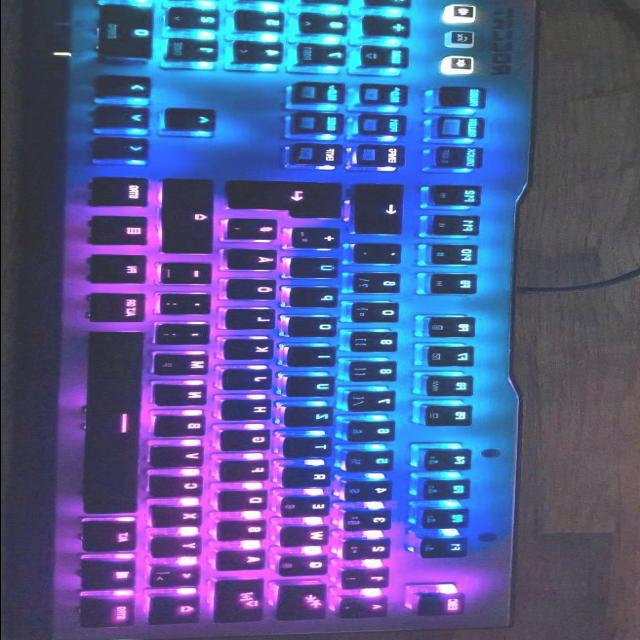0: (353, 303, 405, 325)
1: (344, 570, 396, 592)
2: (347, 542, 397, 562)
3: (347, 513, 397, 533)
4: (348, 482, 398, 504)
5: (347, 452, 399, 474)
6: (349, 422, 401, 444)
7: (347, 392, 401, 414)
8: (350, 362, 402, 384)
9: (351, 333, 403, 355)
a: (221, 552, 271, 573)
accent: (357, 245, 407, 267)
ae: (231, 251, 283, 273)
alt-left: (85, 522, 143, 554)
altgr-right: (93, 294, 151, 325)
b: (158, 416, 212, 439)
c: (153, 477, 209, 500)
caret: (345, 598, 392, 620)
comma: (161, 325, 217, 348)
d: (223, 492, 273, 514)
del: (358, 187, 407, 237)
e: (284, 499, 336, 519)
enter: (228, 182, 350, 221)
f: (225, 462, 275, 483)
g: (225, 431, 275, 453)
h: (226, 401, 276, 423)
hash: (231, 221, 283, 243)
i: (293, 348, 341, 370)
j: (227, 370, 277, 392)
k: (227, 340, 279, 362)
keyboard: (37, 0, 527, 640)
l: (230, 310, 280, 332)
less: (153, 568, 205, 590)
m: (157, 354, 215, 378)
minus: (166, 265, 218, 287)
n: (157, 384, 213, 409)
o: (292, 318, 342, 340)
oe: (229, 280, 281, 302)
p: (293, 288, 343, 310)
plus: (296, 230, 346, 250)
point: (164, 295, 218, 317)
q: (282, 557, 334, 579)
r: (287, 469, 337, 490)
s: (221, 523, 271, 543)
shift-left: (154, 597, 204, 627)
shift-lock: (219, 579, 269, 625)
shift-right: (166, 182, 218, 256)
space: (87, 332, 147, 518)
ss: (354, 274, 406, 296)
strg-left: (84, 598, 138, 630)
strg-right: (94, 178, 154, 210)
t: (289, 439, 337, 459)
tab: (282, 586, 332, 623)
u: (290, 377, 340, 399)
ue: (293, 259, 345, 281)
v: (153, 447, 211, 470)
w: (285, 528, 335, 549)
x: (156, 507, 208, 529)
y: (155, 539, 205, 560)
z: (289, 409, 339, 429)
